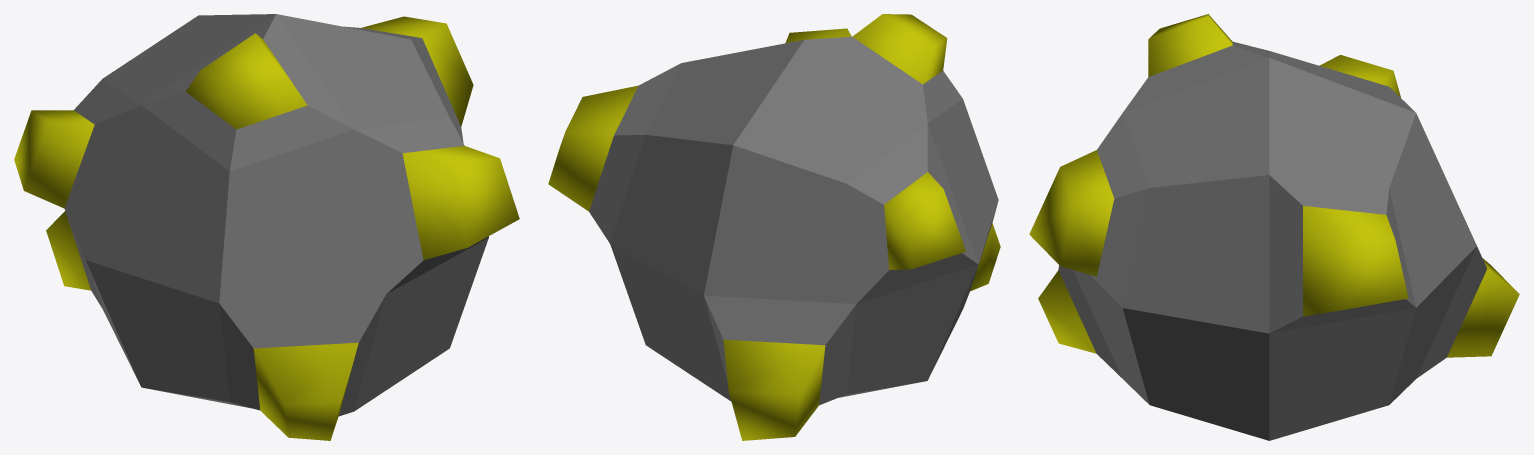
Rendered from gold_ore.glb.
The picture shows the model from 3 angles, left to right: view 1: azimuth 30°, elevation 25°; view 2: azimuth 150°, elevation 25°; view 3: azimuth 270°, elevation 25°; orthographic projection. The views are drawn at different scales.
Parts seen in each view (by area): view 1: GoldOre; view 2: GoldOre; view 3: GoldOre.
Boxes of the visible parts, x1,y1,x2,y2 form: GoldOre: [14, 14, 519, 440]; GoldOre: [548, 14, 1000, 440]; GoldOre: [1029, 14, 1519, 440].
Bounding box in the file's own units: 4.7 × 4.18 × 4.73.
Materials: 1 (1 with a texture image).
